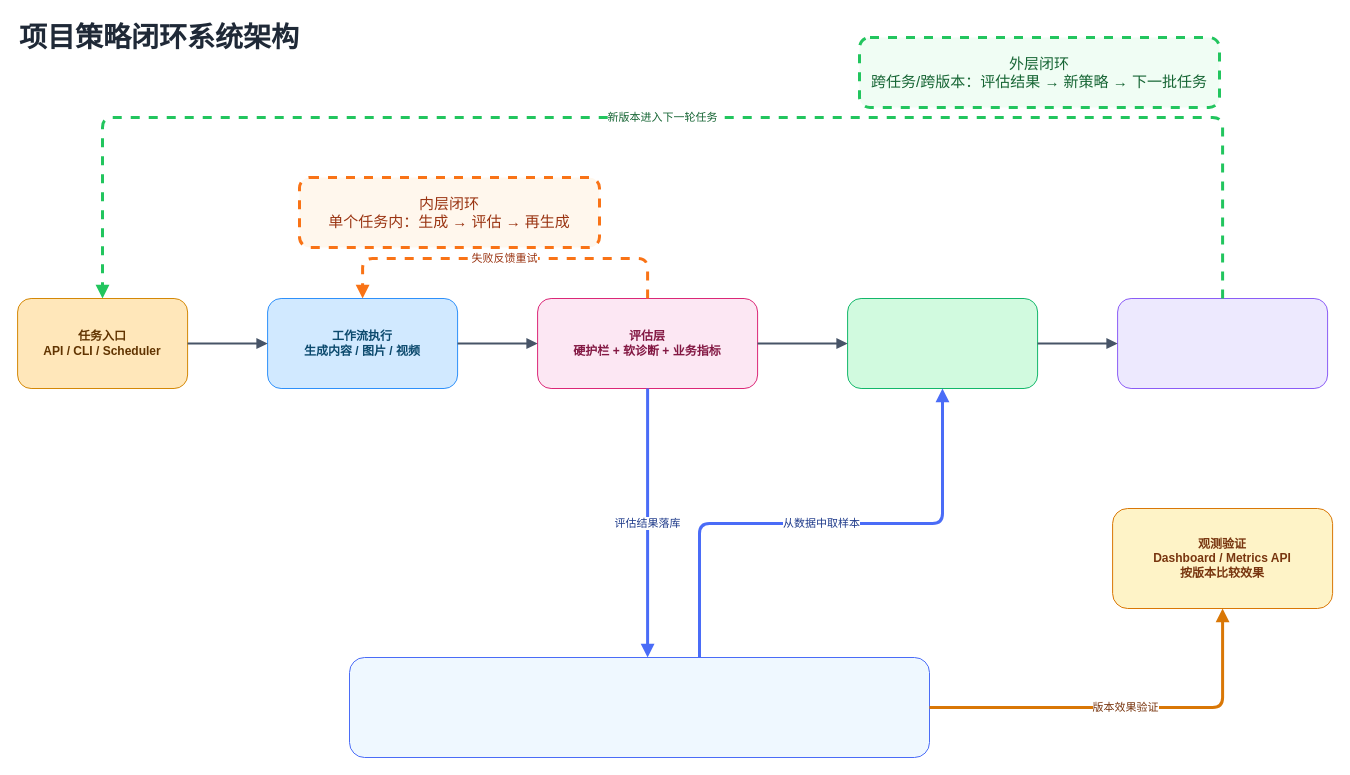
This 1350x775 diagram has some shape labels left out. Here are the shapes that lost their labels. From the top down, the centre of each, then its label:
At point 942,343: "策略生成层 归因问题 生成新规则".
At point 1222,343: "策略版本层 当前版本 / 历史版本 规则装配与切换".
At point 639,707: "MySQL 持久化中心 task_runs / evaluation_history / content_metrics / strategy_versions".
